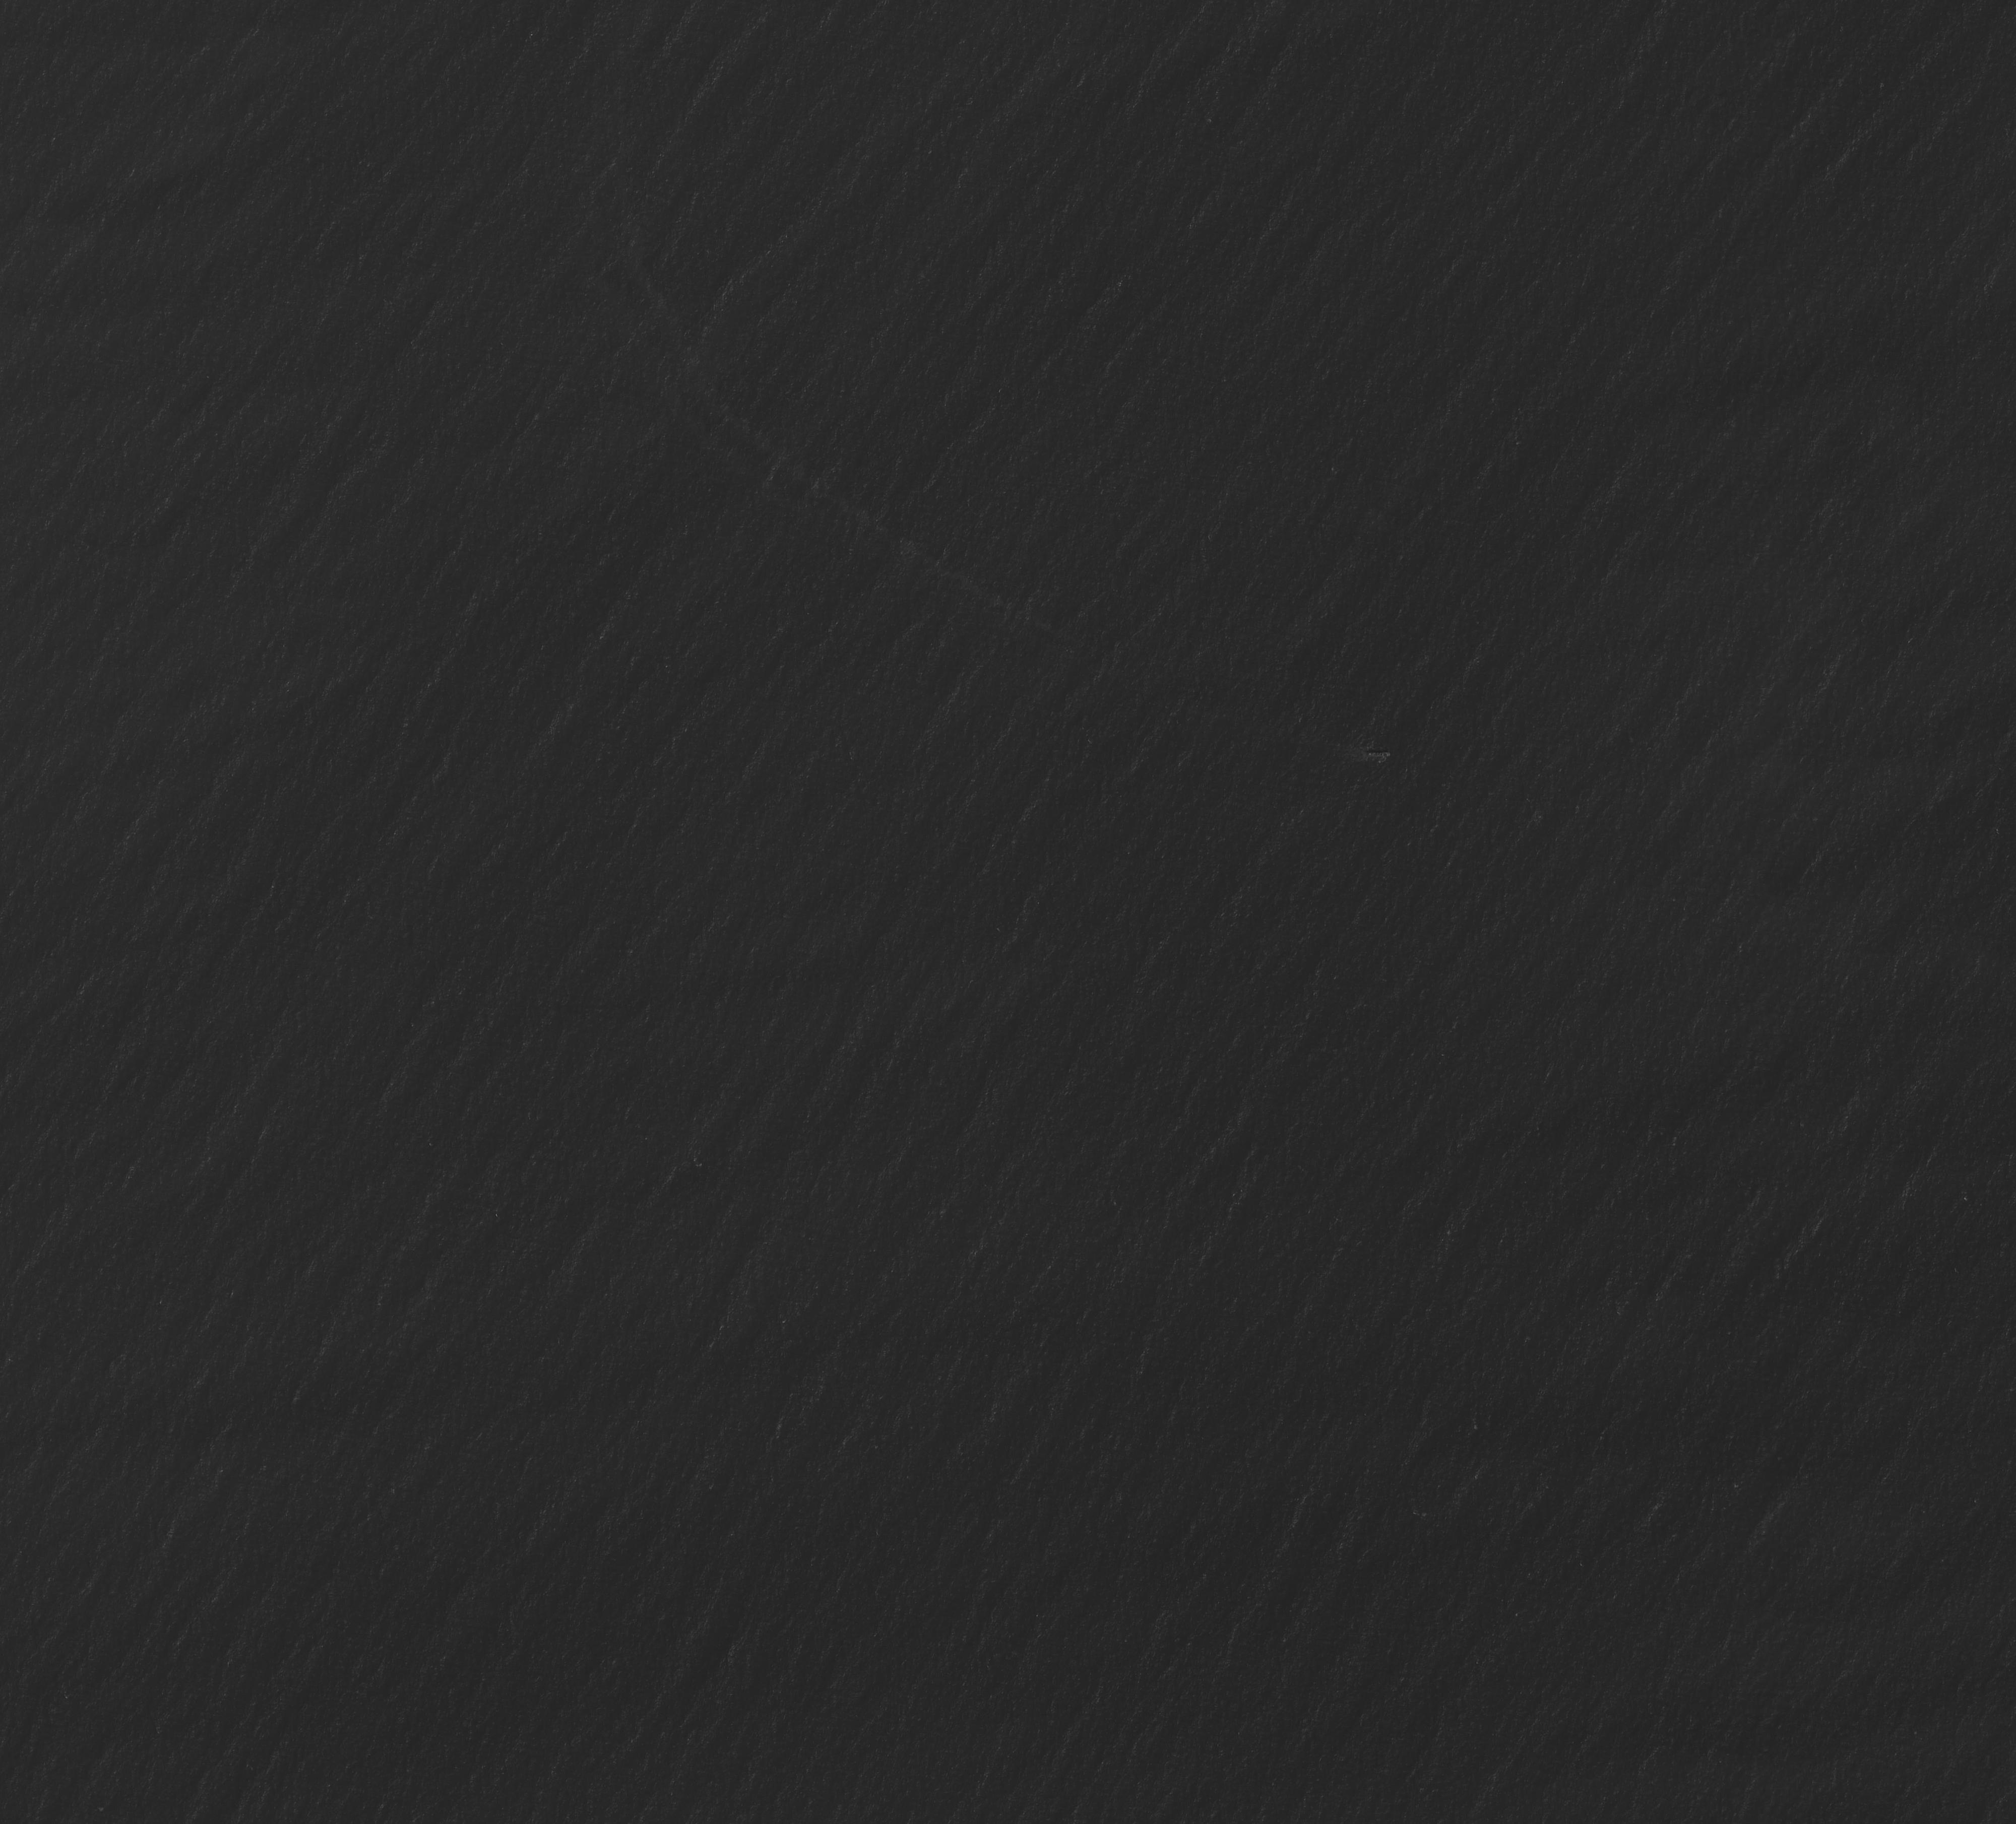ship: (1366, 750, 1391, 758)
